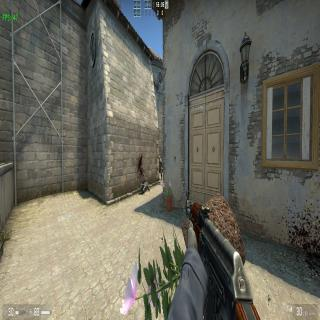CT-Body: (159, 156, 162, 180)
CT-Head: (159, 156, 161, 161)
